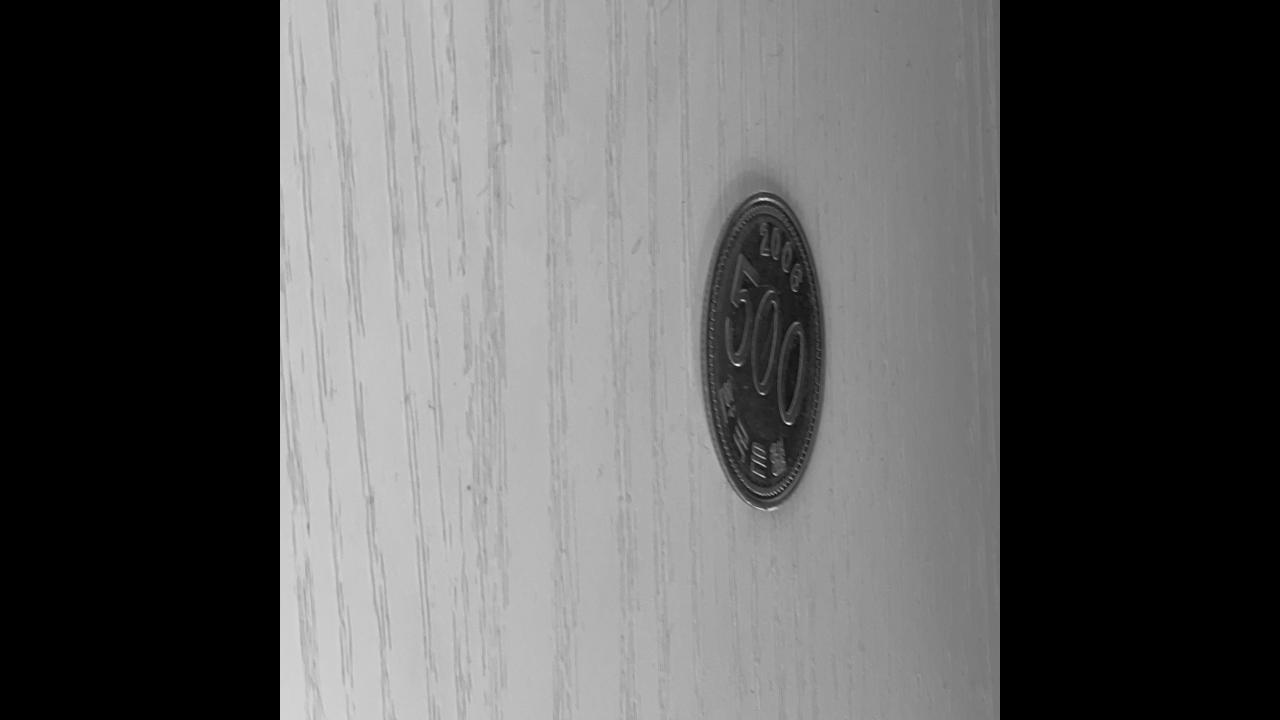coin: (699, 186, 826, 518)
